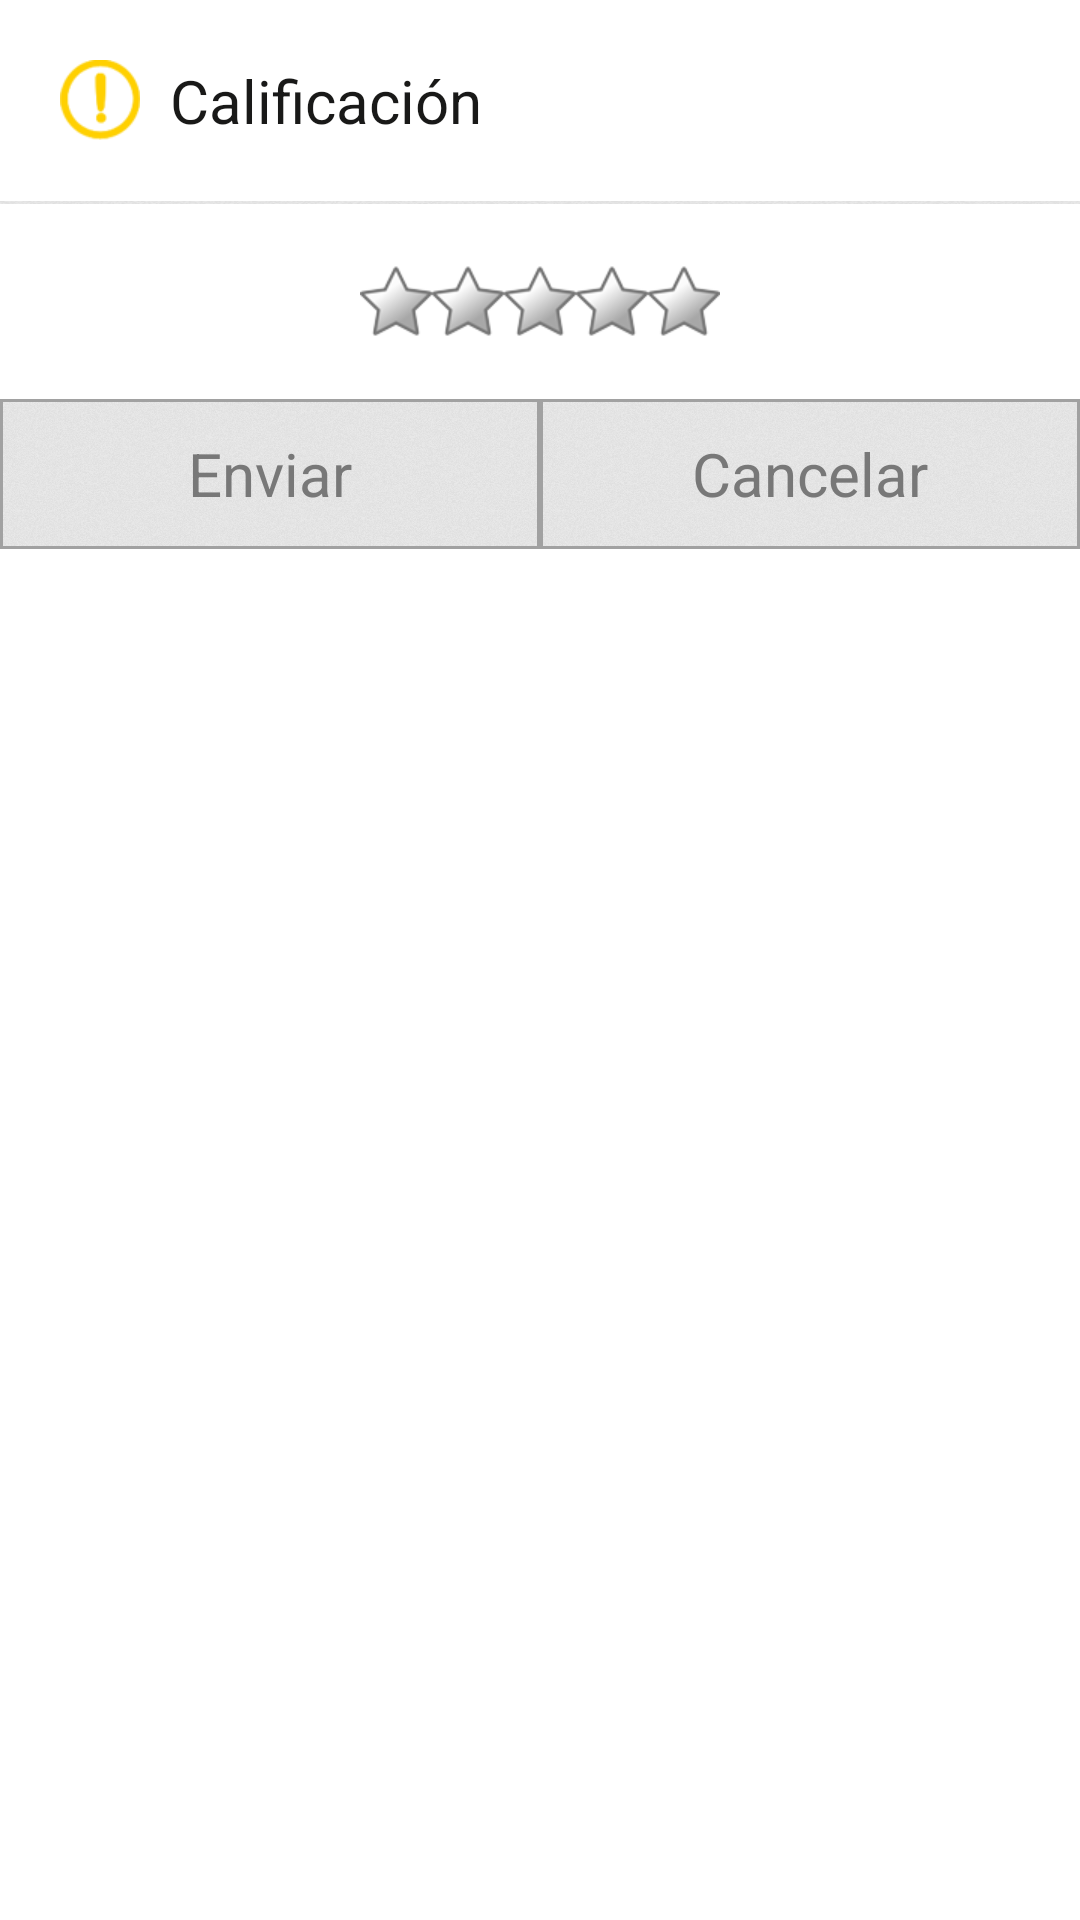

Icon bounding boxes for this 1080w x 1920h phone screenshot, format bbox=(x1, y1, x2, y2):
dlg warning: bbox=(60, 60, 140, 140)
